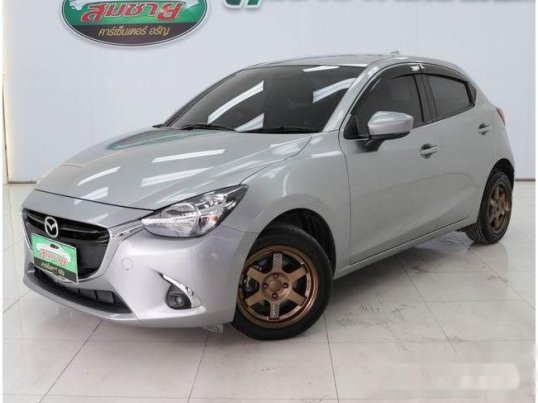sedan: (19, 51, 516, 342)
